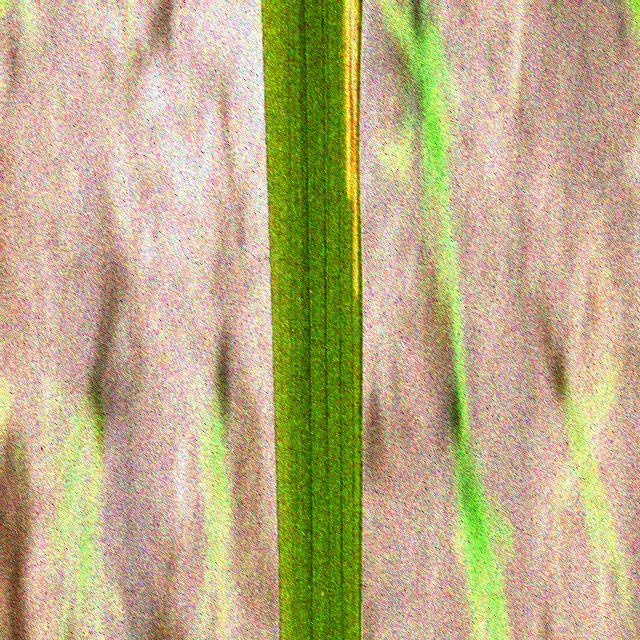BLS: (344, 0, 358, 299)
